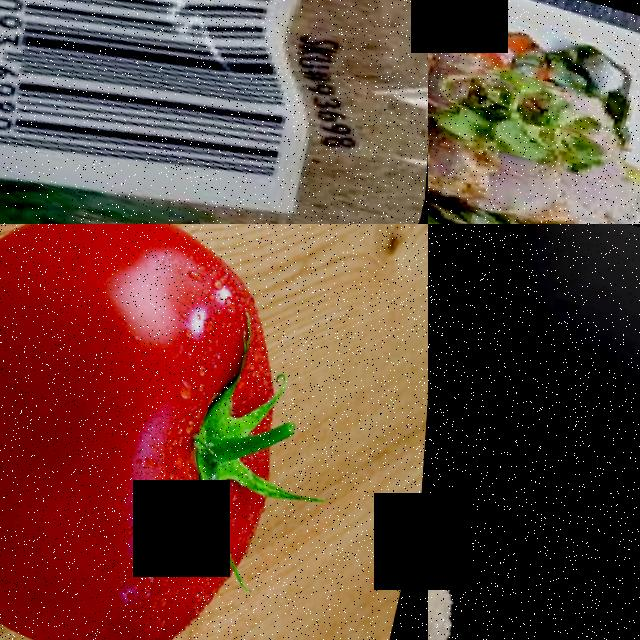tomato: (0, 224, 332, 640)
white rice: (428, 503, 481, 640)
